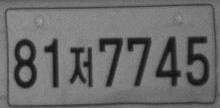1: (41, 37, 65, 88)
4: (154, 35, 182, 87)
5: (185, 35, 210, 86)
7: (126, 36, 152, 87), (98, 37, 123, 87)
8: (13, 38, 37, 89)
저: (68, 46, 93, 87)
